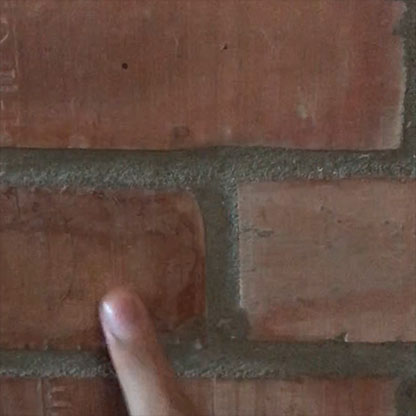fingertip: (88, 285, 159, 351)
